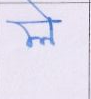o_matra: (42, 8, 56, 46)
